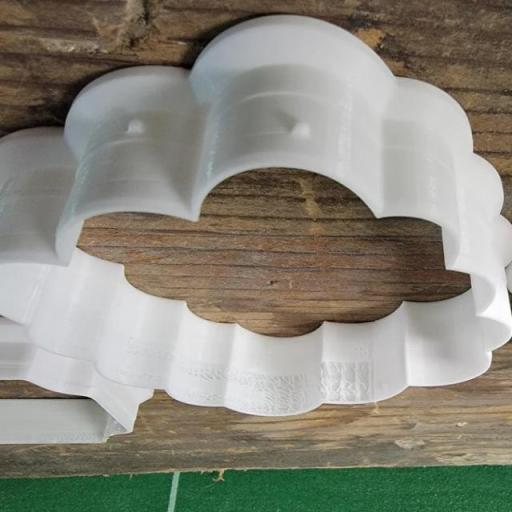blobs: (316, 361, 370, 401), (248, 371, 294, 411), (192, 361, 223, 384), (123, 116, 150, 138), (288, 117, 310, 141)
